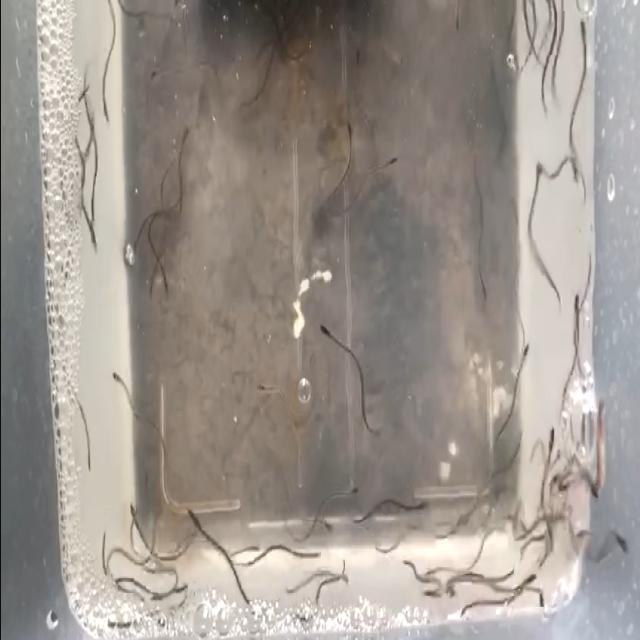inactive_glass_eel: (606, 524, 628, 566), (183, 500, 206, 540), (574, 5, 587, 70), (337, 472, 363, 504), (591, 412, 608, 457), (568, 288, 586, 330), (98, 80, 114, 124), (158, 265, 174, 309), (85, 204, 99, 254), (238, 536, 262, 564), (380, 148, 400, 180), (533, 154, 547, 198), (110, 368, 128, 402), (316, 318, 336, 348), (105, 612, 126, 640), (529, 584, 549, 612), (544, 422, 558, 461), (298, 548, 322, 570), (148, 60, 168, 86), (400, 552, 418, 580), (518, 566, 535, 594), (474, 268, 486, 306), (413, 490, 428, 520), (418, 582, 438, 604), (254, 379, 274, 401), (178, 119, 192, 150), (130, 500, 142, 536), (517, 344, 531, 374), (85, 439, 95, 478), (314, 519, 336, 536), (293, 604, 311, 624), (345, 113, 354, 151), (88, 194, 98, 228), (449, 17, 462, 35)
